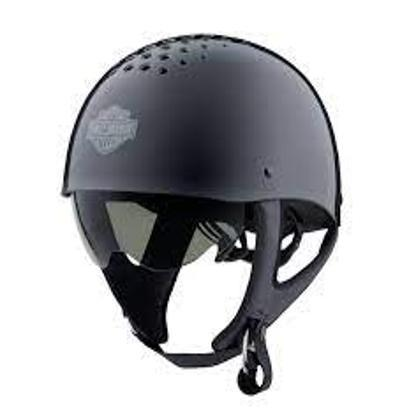not trash: (59, 35, 346, 395)
